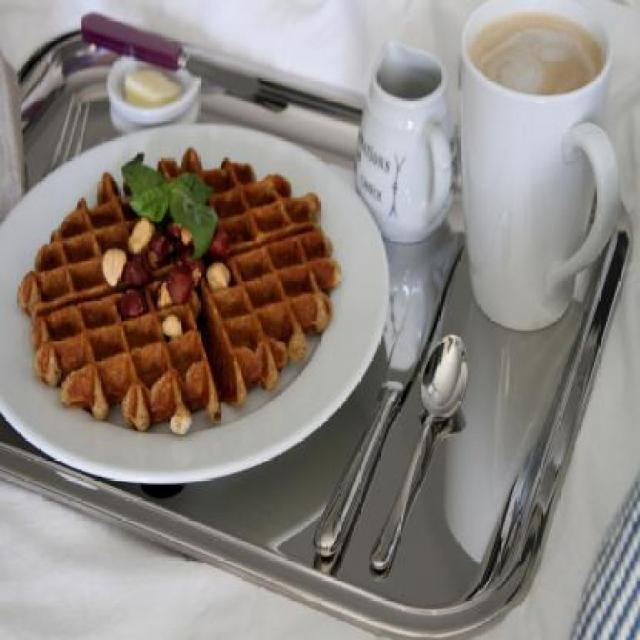Waffle: (15, 148, 340, 434)
